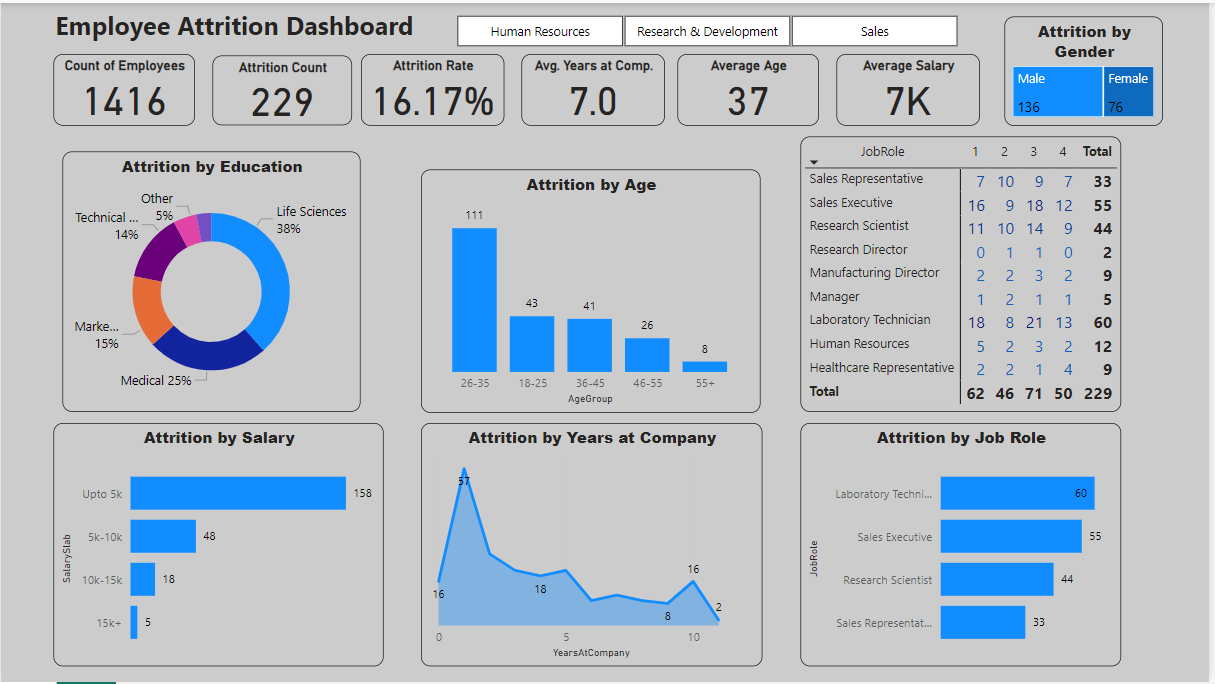

The dashboard page shown, as its layout file describes it:
{"tool":"powerbi","page":{"name":"Page 1","canvas":[1280,720],"ordinal":0},"visuals":[{"type":"card","title":"Count of Employees","fields":{"Values":["Sum(HR_Analytics.EmployeeCount)"]},"box":[56,54,150,76],"z":0},{"type":"card","title":"Avg. Years at Comp.","fields":{"Values":["Avg(HR_Analytics.YearsAtCompany)"]},"box":[552,54,152,76],"z":1000},{"type":"card","title":"Attrition Count","fields":{"Values":["Sum(HR_Analytics.AttritionCount)"]},"box":[224,56,148,74],"z":2000},{"type":"card","title":"Average Age","fields":{"Values":["Avg(HR_Analytics.Age)"]},"box":[718,54,150,76],"z":3000},{"type":"card","title":"Average Salary","fields":{"Values":["Avg(HR_Analytics.MonthlyIncome)"]},"box":[886,54,152,76],"z":4000},{"type":"card","title":"Attrition Rate","fields":{"Values":["HR_Analytics.AttritionRate"]},"box":[382,54,152,76],"z":5000},{"type":"donutChart","title":"Attrition by Education","fields":{"Category":["HR_Analytics.EducationField"],"Y":["Sum(HR_Analytics.AttritionCount)"]},"box":[66,158,316,276],"z":6000},{"type":"columnChart","title":"Attrition by Age","fields":{"Y":["Sum(HR_Analytics.AttritionCount)"],"Category":["HR_Analytics.AgeGroup"]},"box":[446,176,360,258],"z":7000},{"type":"pivotTable","fields":{"Rows":["HR_Analytics.JobRole"],"Columns":["HR_Analytics.JobSatisfaction"],"Values":["Sum(HR_Analytics.AttritionCount)"]},"box":[848,142,340,292],"z":8000},{"type":"clusteredBarChart","title":"Attrition by Salary","fields":{"Category":["HR_Analytics.SalarySlab"],"Y":["Sum(HR_Analytics.AttritionCount)"]},"box":[56,446,350,258],"z":9000},{"type":"clusteredBarChart","title":"Attrition by Job Role","fields":{"Category":["HR_Analytics.JobRole"],"Y":["Sum(HR_Analytics.AttritionCount)"]},"box":[848,446,340,258],"z":10000},{"type":"areaChart","title":"Attrition by Years at Company","fields":{"Category":["HR_Analytics.YearsAtCompany"],"Y":["Sum(HR_Analytics.AttritionCount)"]},"box":[446,446,362,258],"z":11000},{"type":"treemap","title":"Attrition by Gender","fields":{"Group":["HR_Analytics.Gender"],"Values":["Sum(HR_Analytics.AttritionCount)"]},"box":[1064,14,168,116],"z":12000},{"type":"slicer","fields":{"Values":["HR_Analytics.Department"]},"box":[458,6,580,46],"z":13000},{"type":"textbox","box":[52.9,0,425.2,54.8],"z":14000}]}

Visuals, with their boxes in screenshot pixels (x1, y1, x2, y2), scaled from the page's 1280x720 canvas onto the 1215x684 screenshot:
"Count of Employees" card: l=53, t=51, r=196, b=124
"Avg. Years at Comp." card: l=524, t=51, r=668, b=124
"Attrition Count" card: l=213, t=53, r=353, b=124
"Average Age" card: l=682, t=51, r=824, b=124
"Average Salary" card: l=841, t=51, r=985, b=124
"Attrition Rate" card: l=363, t=51, r=507, b=124
"Attrition by Education" donutChart: l=63, t=150, r=363, b=412
"Attrition by Age" columnChart: l=423, t=167, r=765, b=412
pivotTable - HR_Analytics.JobRole x HR_Analytics.JobSatisfaction: l=805, t=135, r=1128, b=412
"Attrition by Salary" clusteredBarChart: l=53, t=424, r=385, b=669
"Attrition by Job Role" clusteredBarChart: l=805, t=424, r=1128, b=669
"Attrition by Years at Company" areaChart: l=423, t=424, r=767, b=669
"Attrition by Gender" treemap: l=1010, t=13, r=1169, b=124
slicer - HR_Analytics.Department: l=435, t=6, r=985, b=49
textbox: l=50, t=0, r=454, b=52
